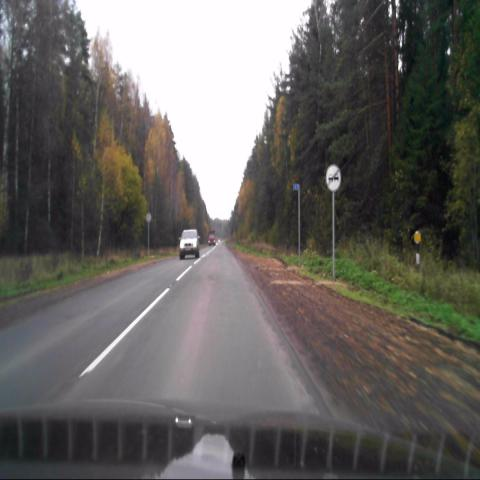3_21: (326, 164, 342, 193)
